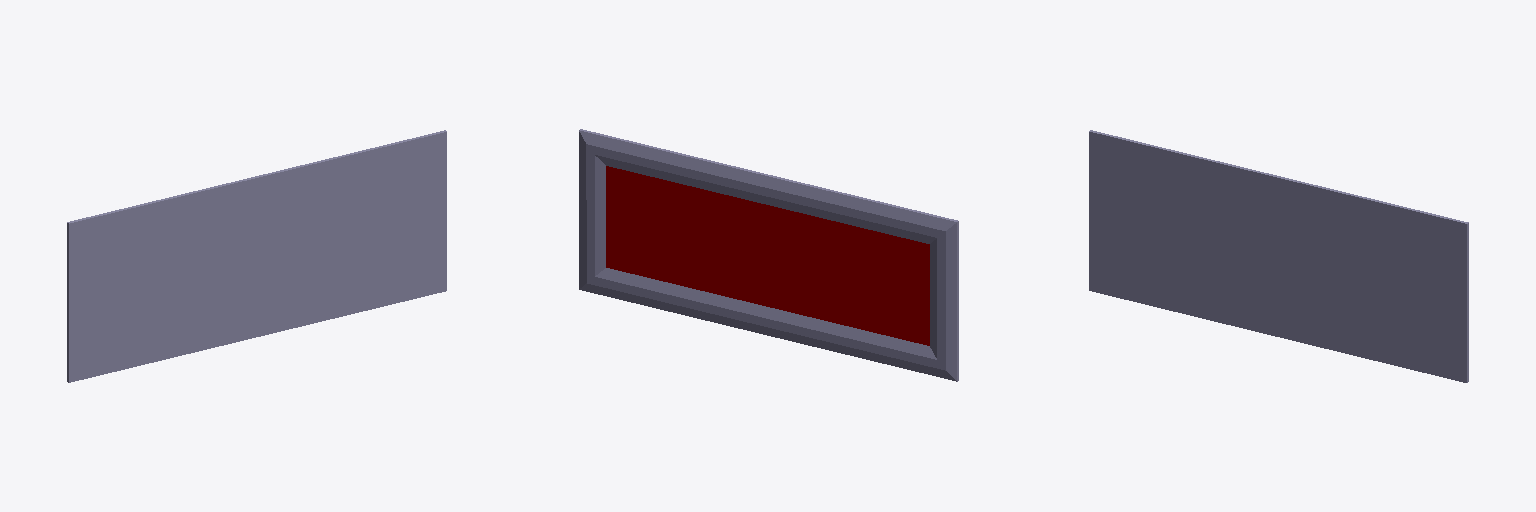
The model's file is mirror2.obj.
3 renders of one model, left to right at view 1: azimuth 30°, elevation 25°; view 2: azimuth 150°, elevation 25°; view 3: azimuth 330°, elevation 25°, orthographic.
Parts seen in each view (by area): view 1: Box002.001_meshId1_name; view 2: Box002_meshId0_name, Box002.001_meshId1_name; view 3: Box002.001_meshId1_name.
Part boxes in pixels (left/top/right/bottom): Box002.001_meshId1_name: left=67, top=130, right=446, bottom=382; Box002_meshId0_name: left=606, top=166, right=929, bottom=345; Box002.001_meshId1_name: left=579, top=129, right=958, bottom=381; Box002.001_meshId1_name: left=1089, top=130, right=1468, bottom=382.
Size of the model in its own units: 2.01 by 0.8119 by 0.0361.